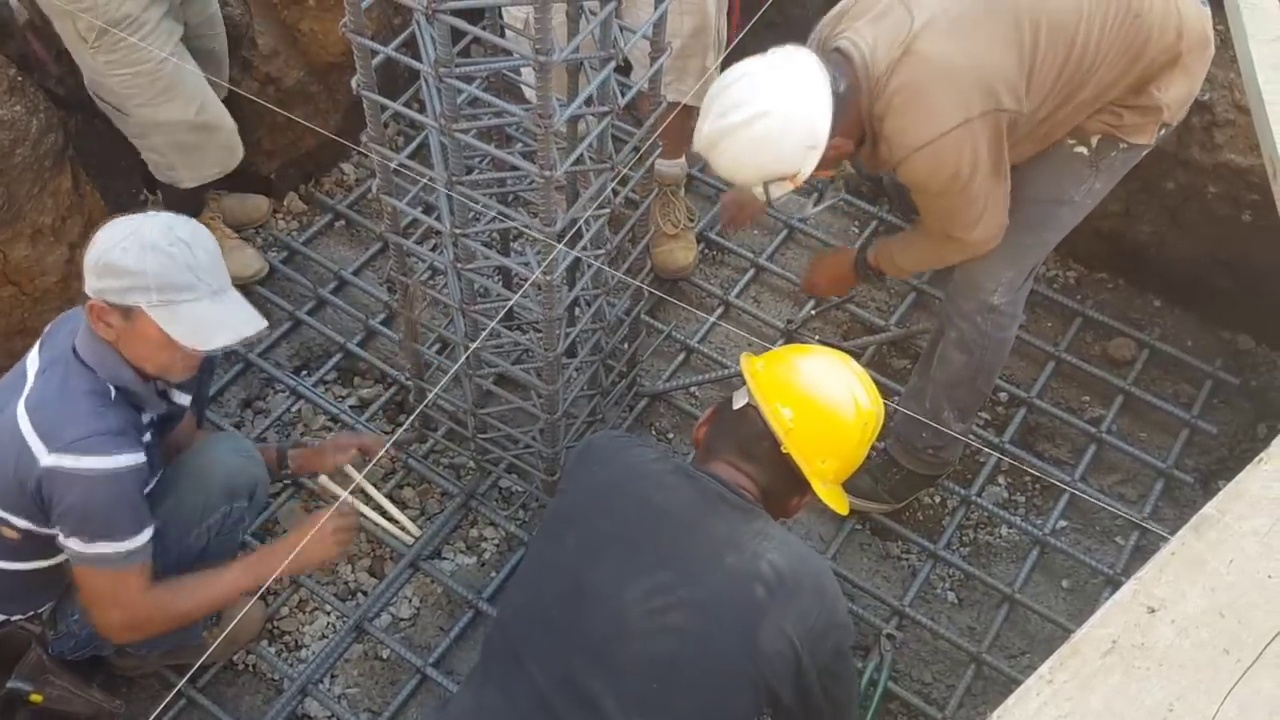helmet: (738, 341, 884, 520), (699, 33, 840, 209)
helmet-off: (71, 211, 259, 404)
helmet-on: (696, 341, 887, 533), (703, 16, 882, 206)
person: (731, 0, 1225, 467), (0, 201, 379, 653), (430, 346, 879, 715), (17, 0, 361, 280), (480, 11, 750, 290)
